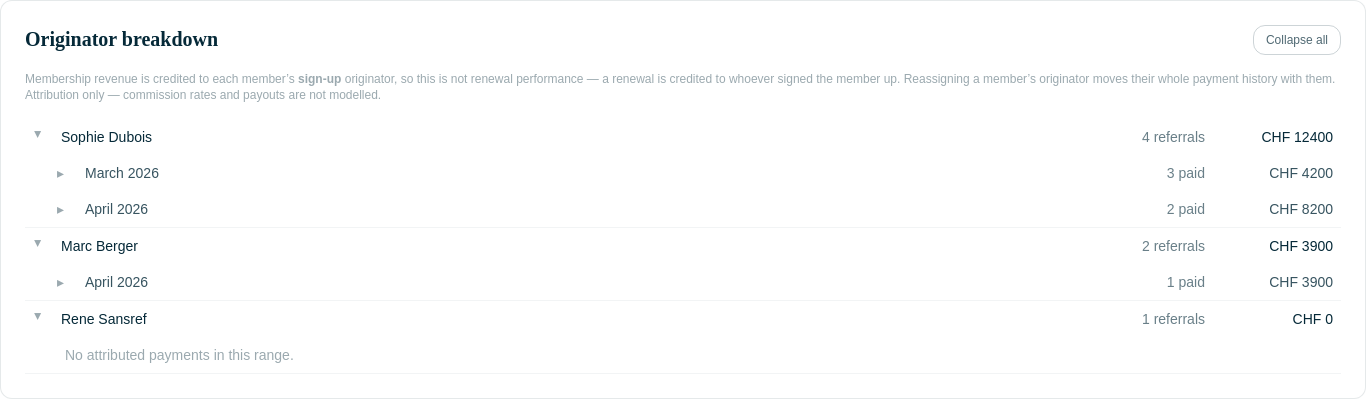
Test: OriginatorBreakdownPanel › collapses an originator's months and restores them
This screenshot has width=1366, height=416.
Click the button "▸ Sophie Dubois 4 referrals CHF 12400" at (107, 137), box [25,119,1341,155]
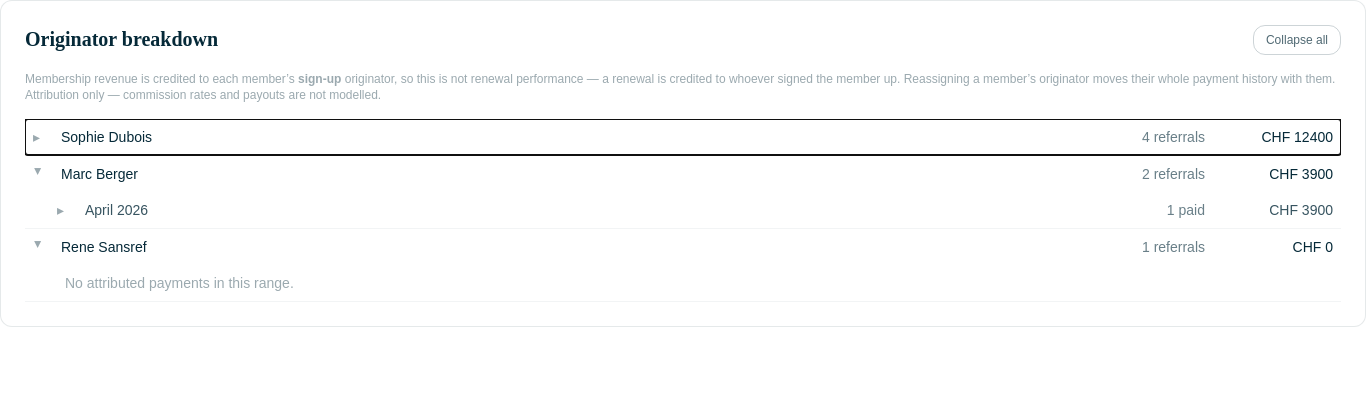
expect the text "April 2026" is shown: met, box [85,202,148,218]
expect the button "▸ Sophie Dubois 4 referrals CHF 12400" is collapsed: met
expect the button "March 2026" is gone: met
Click the button "▸ Sophie Dubois 4 referrals CHF 12400" at (107, 137), box [25,119,1341,155]
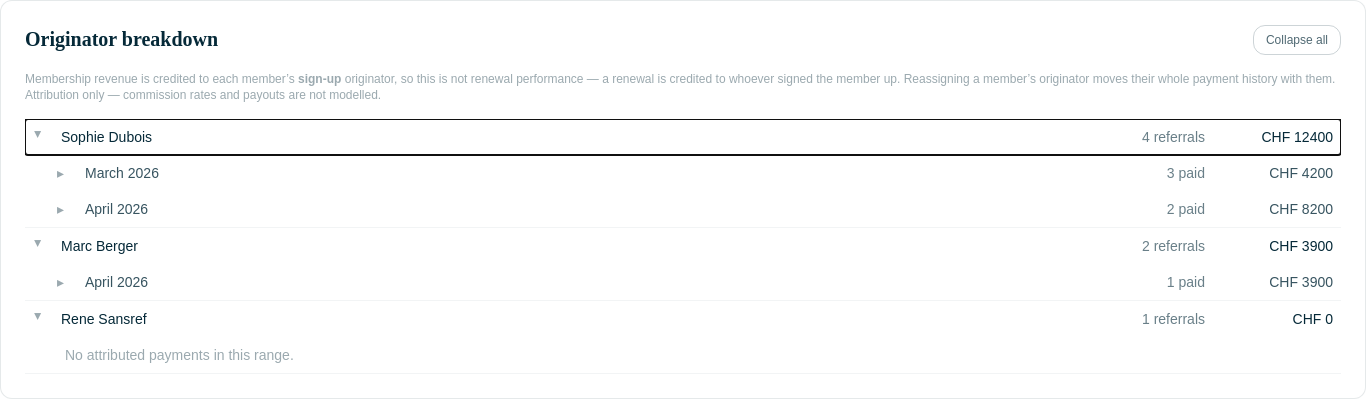
expect the button "▸ Sophie Dubois 4 referrals CHF 12400" is expanded: met, box [25,119,1341,155]
expect the text "March 2026" is shown: met, box [85,165,159,181]
